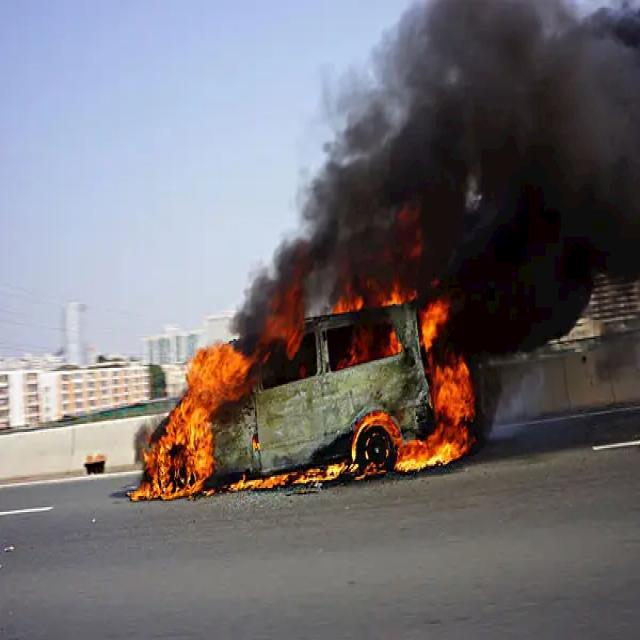Fire: (127, 346, 250, 501), (388, 412, 470, 470), (434, 352, 473, 414), (420, 296, 450, 344)
Smoke: (287, 1, 640, 297)
